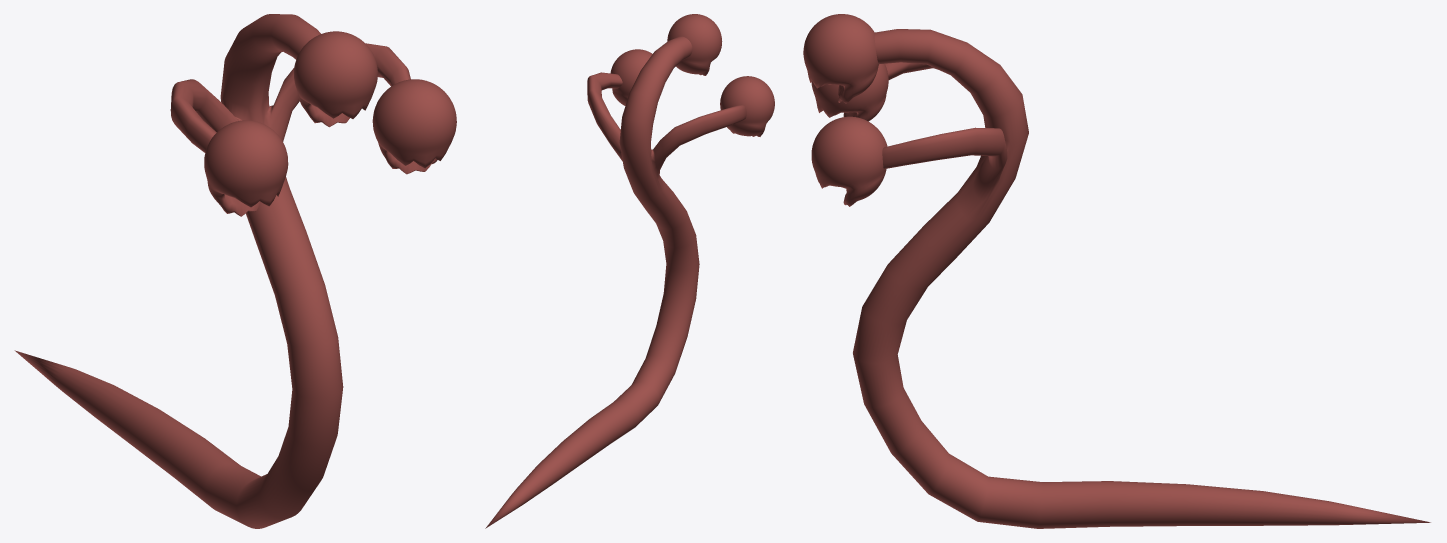
File: HeadsWorm.fbx
3 renders of one model, left to right at view 1: azimuth 30°, elevation 25°; view 2: azimuth 150°, elevation 25°; view 3: azimuth 270°, elevation 25°, orthographic. The views are drawn at different scales.
Visible parts, largest first — view 1: pCone1, pSphere3, pSphere1, pSphere2; view 2: pCone1, pSphere3, pSphere1, pSphere2; view 3: pCone1, pSphere1, pSphere2, pSphere3.
Boxes of the visible parts, x1,y1,x2,y2 form: pCone1: (14, 14, 410, 528); pSphere3: (204, 120, 288, 216); pSphere1: (294, 31, 377, 127); pSphere2: (372, 79, 456, 174); pCone1: (485, 36, 746, 528); pSphere3: (720, 76, 774, 136); pSphere1: (667, 14, 722, 75); pSphere2: (610, 49, 652, 105); pCone1: (853, 29, 1430, 528); pSphere1: (803, 14, 878, 103); pSphere2: (811, 116, 887, 206); pSphere3: (811, 63, 888, 121).
Size of the model in its own units: 5.68 by 12.48 by 13.97.
